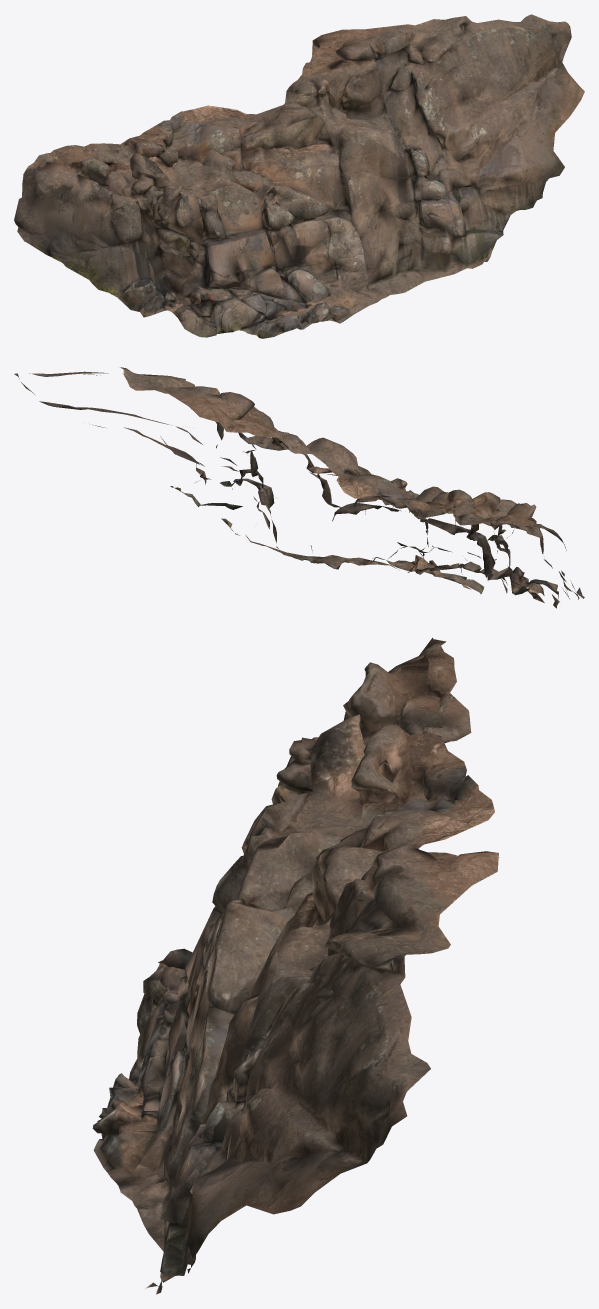
File: rock_outcrop_ledge.glb
3 views of the same model, one above another, from view 1: azimuth 30°, elevation 25°; view 2: azimuth 150°, elevation 25°; view 3: azimuth 270°, elevation 25° (orthographic). The views are drawn at different scales.
Visible parts, largest first — view 1: drone_rock_02_LOD0; view 2: drone_rock_02_LOD0; view 3: drone_rock_02_LOD0.
Part boxes in pixels (x1=…): drone_rock_02_LOD0: x1=14, y1=14, x2=584, y2=338; drone_rock_02_LOD0: x1=14, y1=367, x2=584, y2=608; drone_rock_02_LOD0: x1=92, y1=637, x2=499, y2=1294.
Size of the model in its own units: 20.22 by 7.17 by 6.58.
1 material, 1 textured.
